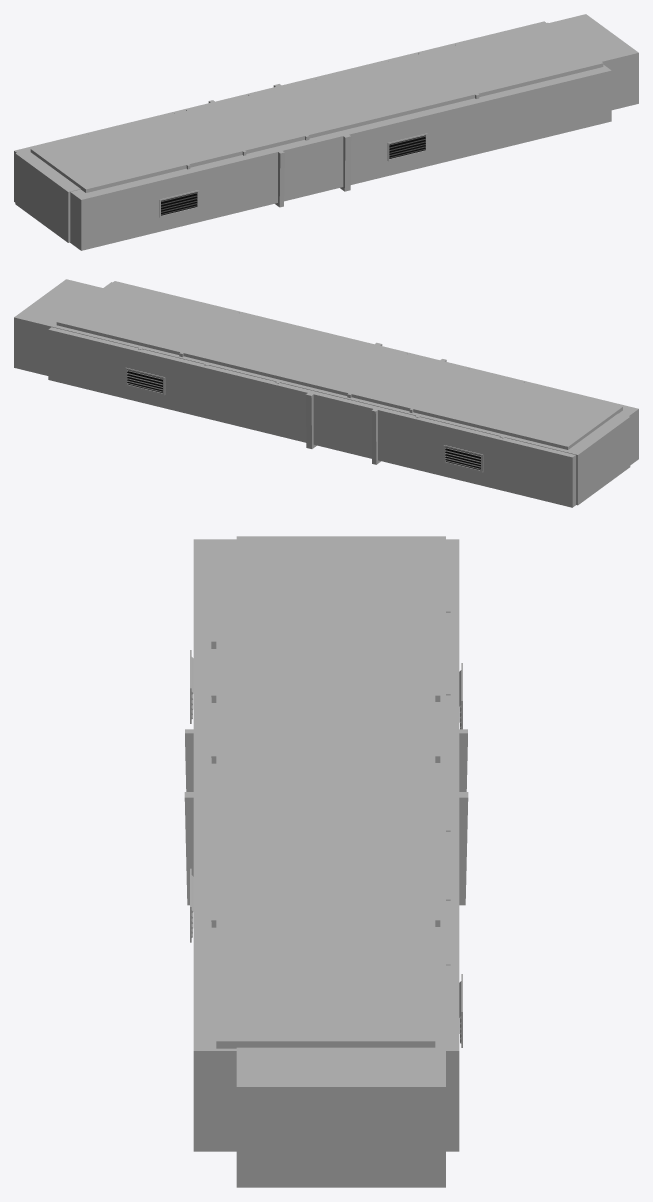
The model's file is RandomVents.gltf.
The picture shows the model from 3 angles, top to bottom: view 1: azimuth 30°, elevation 25°; view 2: azimuth 150°, elevation 25°; view 3: azimuth 270°, elevation 25°; orthographic projection. The views are drawn at different scales.
Visible parts, largest first — view 1: RVents3, RVents2, RVents1; view 2: RVents3, RVents2, RVents1; view 3: RVents2, RVents1, RVents3.
Part boxes in pixels (x1,y1,x2,y2): RVents3: (14,21,611,250); RVents2: (30,22,603,192); RVents1: (15,14,638,242); RVents3: (48,281,638,507); RVents2: (56,282,622,449); RVents1: (14,279,630,505); RVents2: (211,542,440,1048); RVents1: (236,536,450,1187); RVents3: (184,539,468,1151).
Bounding box in the file's own units: 2.39 × 0.2329 × 0.5204.
2 materials, 2 textured.
